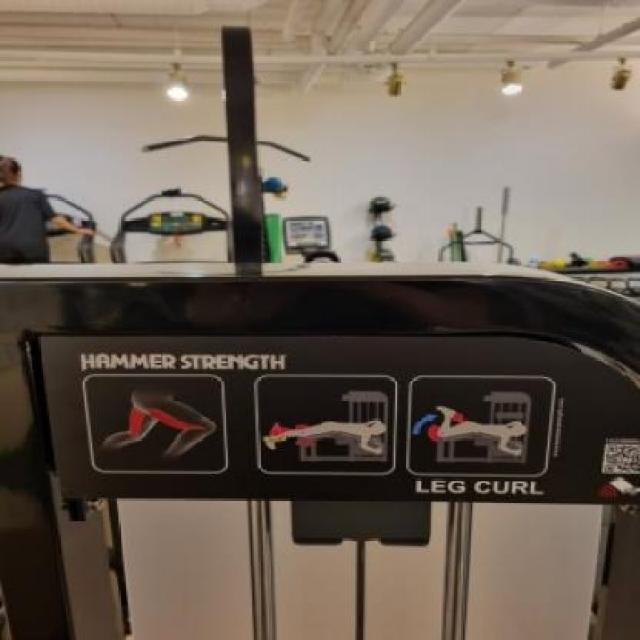reg curl machine: (409, 388, 537, 468), (260, 388, 394, 462)
